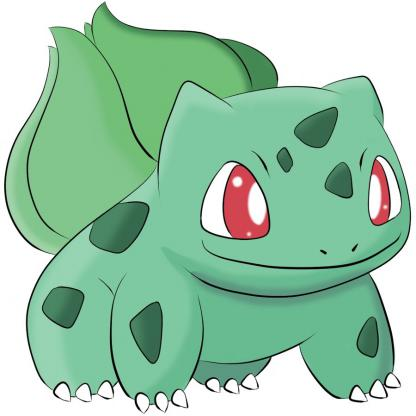Bulbasaur: (5, 1, 416, 416)
